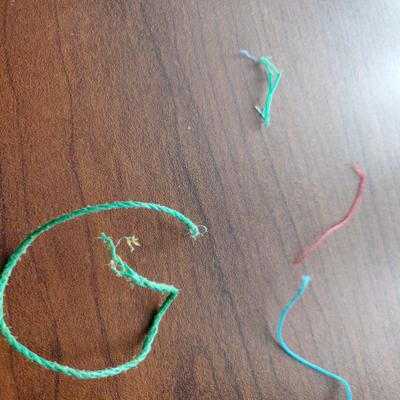thread: (1, 202, 211, 383), (275, 272, 363, 400), (289, 159, 371, 266), (237, 44, 289, 128)
